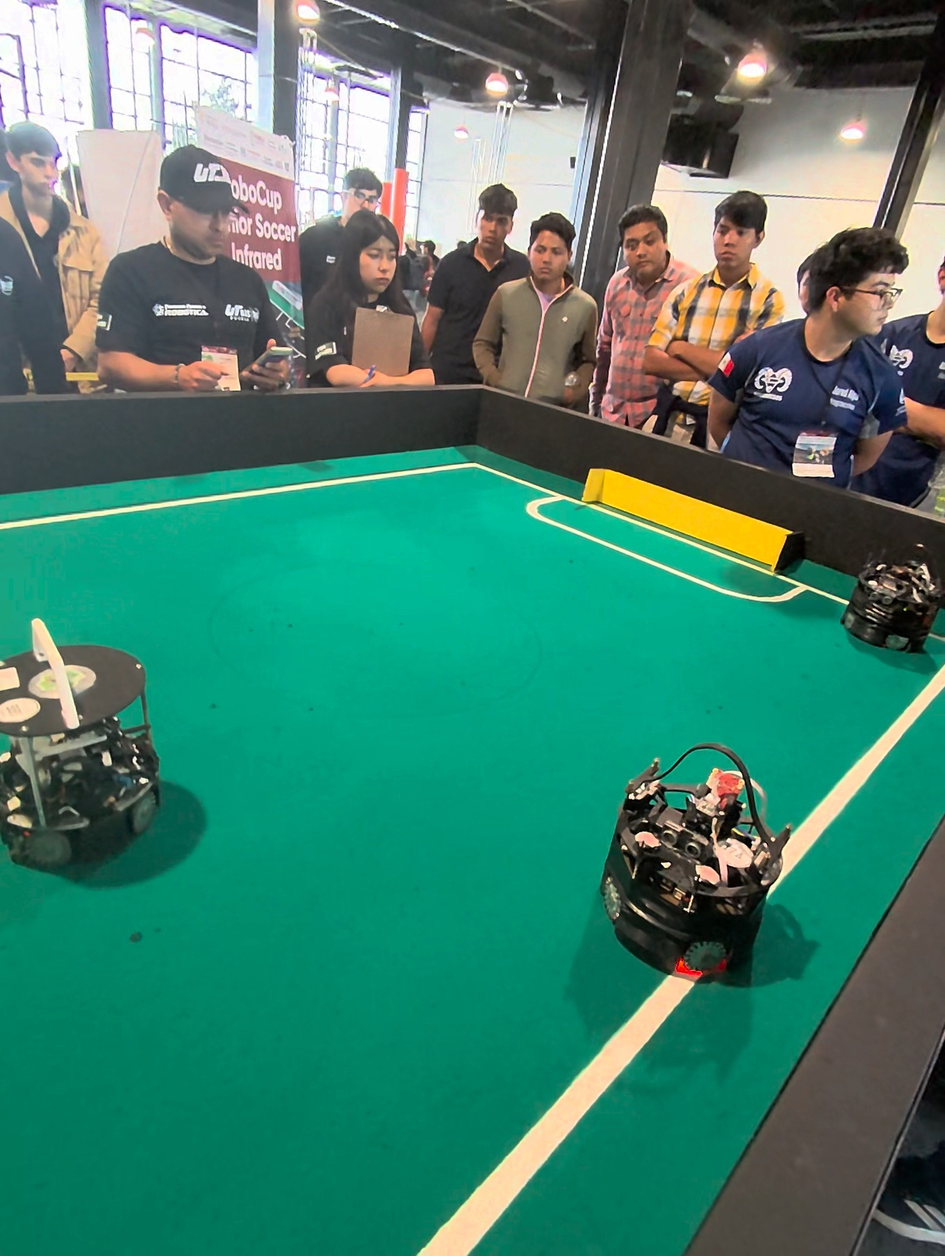Robot: (0, 598, 184, 885), (605, 731, 792, 995), (839, 538, 940, 657)
